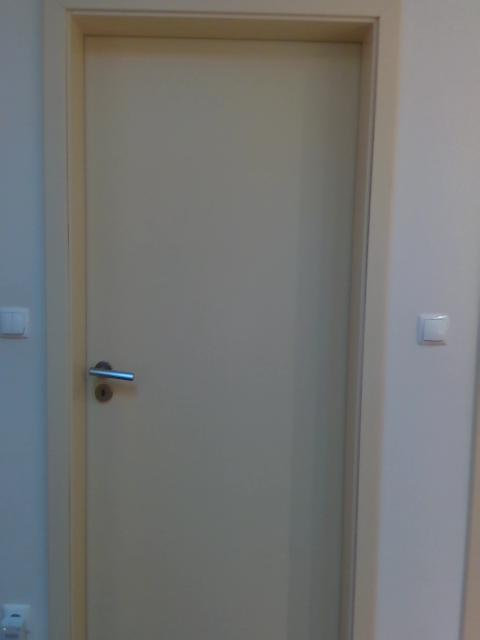door: (82, 36, 359, 640)
